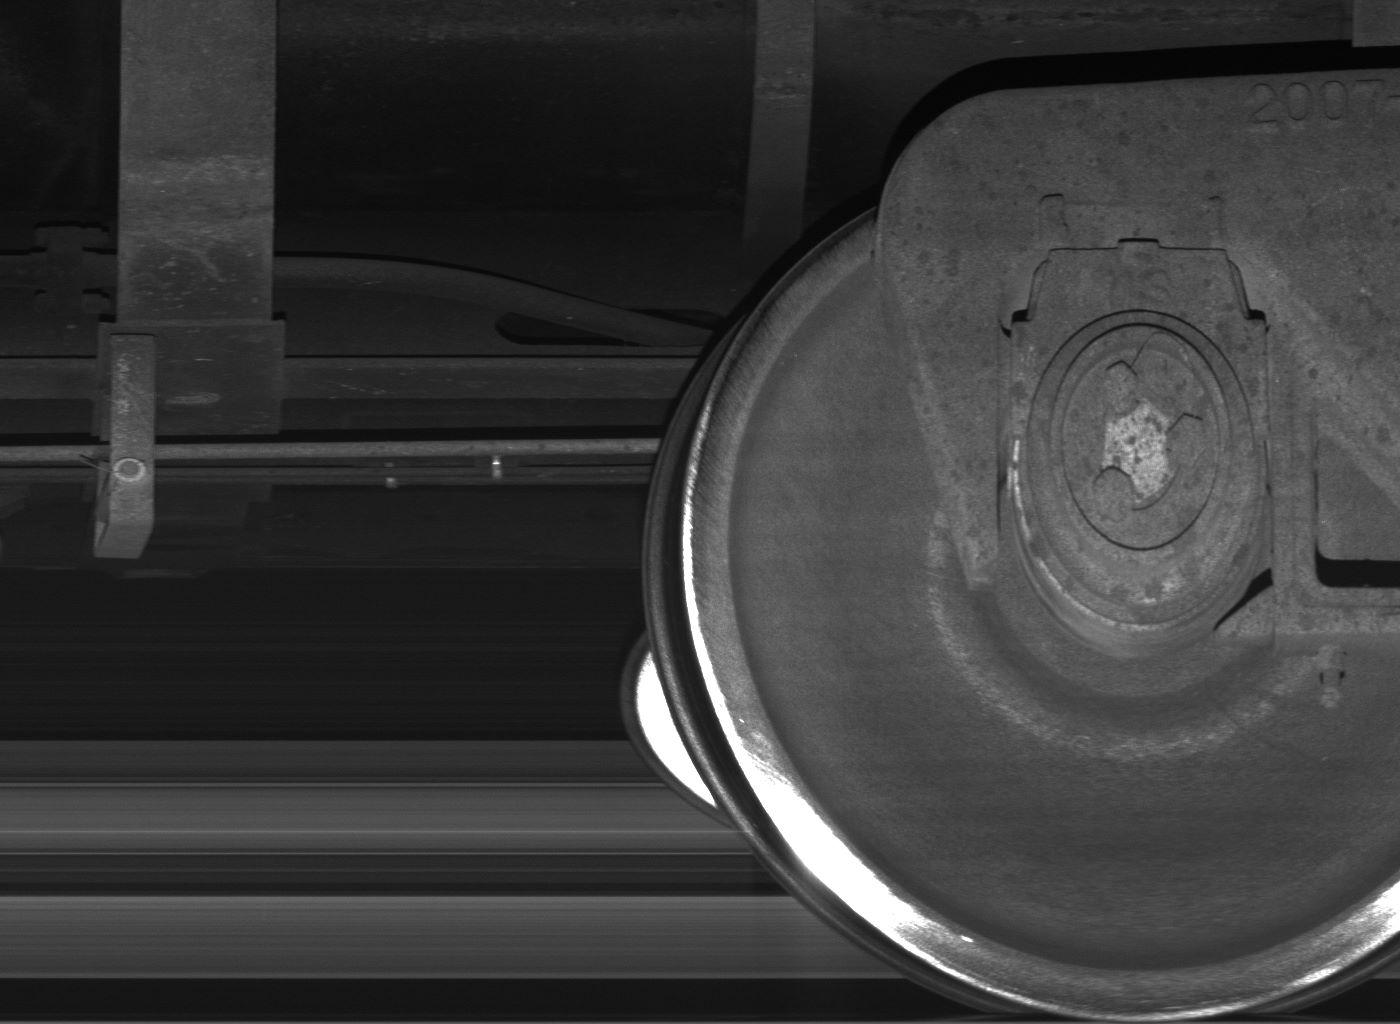normal: (92, 335, 157, 560)
